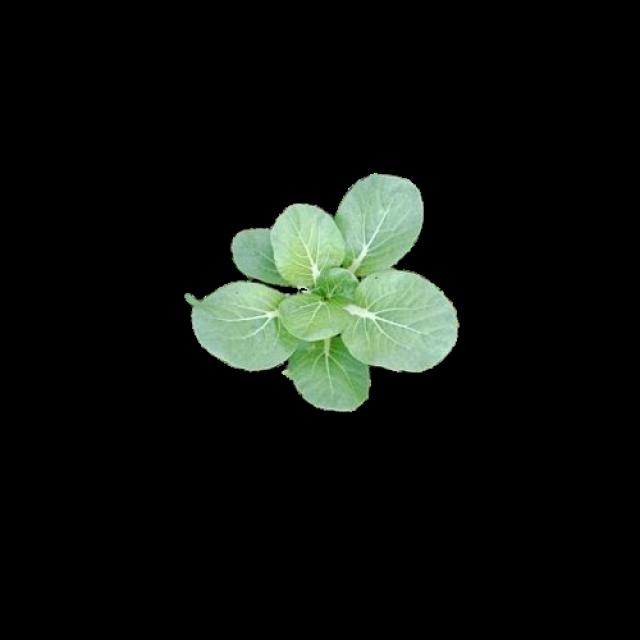healthy: (186, 169, 458, 404)
not-mature: (188, 172, 461, 407)
